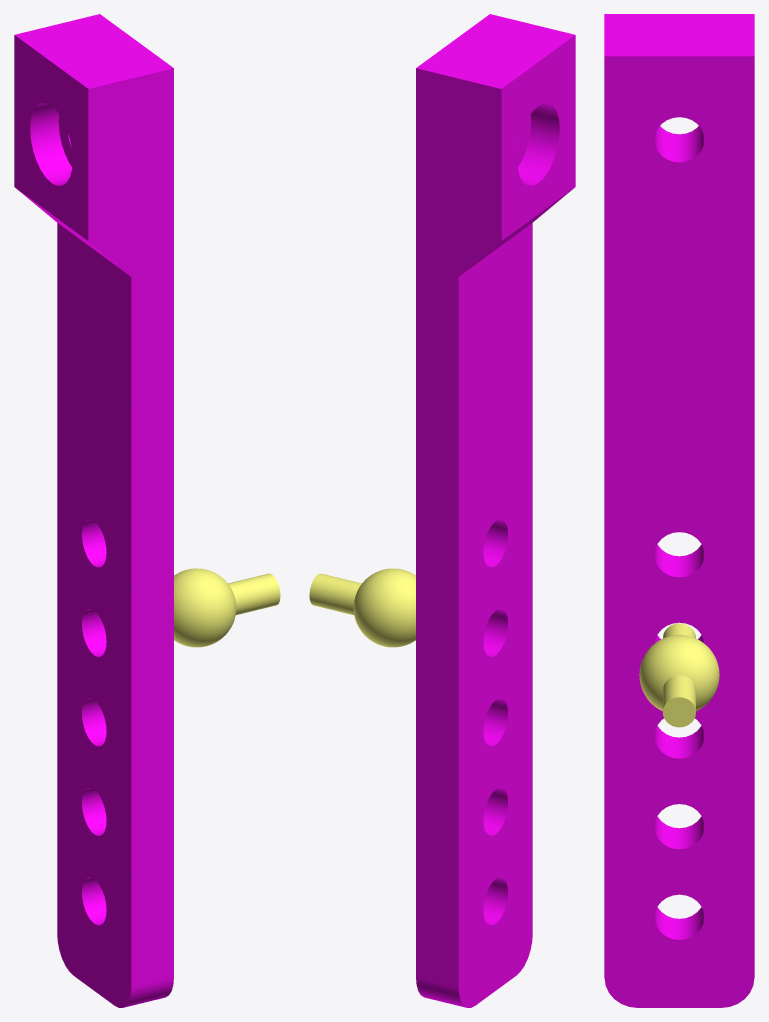
Rendered from Servo arm assembly.fbx.
3 renders of one model, left to right at view 1: azimuth 30°, elevation 25°; view 2: azimuth 150°, elevation 25°; view 3: azimuth 270°, elevation 25°, orthographic.
Parts seen in each view (by area): view 1: - Frozen, - Frozen 2; view 2: - Frozen, - Frozen 2; view 3: - Frozen, - Frozen 2.
Part boxes in pixels (x1,y1,x2,y2): - Frozen: (14,14,173,1007); - Frozen 2: (174,568,280,647); - Frozen: (416,14,575,1007); - Frozen 2: (309,568,415,647); - Frozen: (604,14,754,1007); - Frozen 2: (639,623,719,727).
Size of the model in its own units: 1.55 by 6.3 by 0.9.
